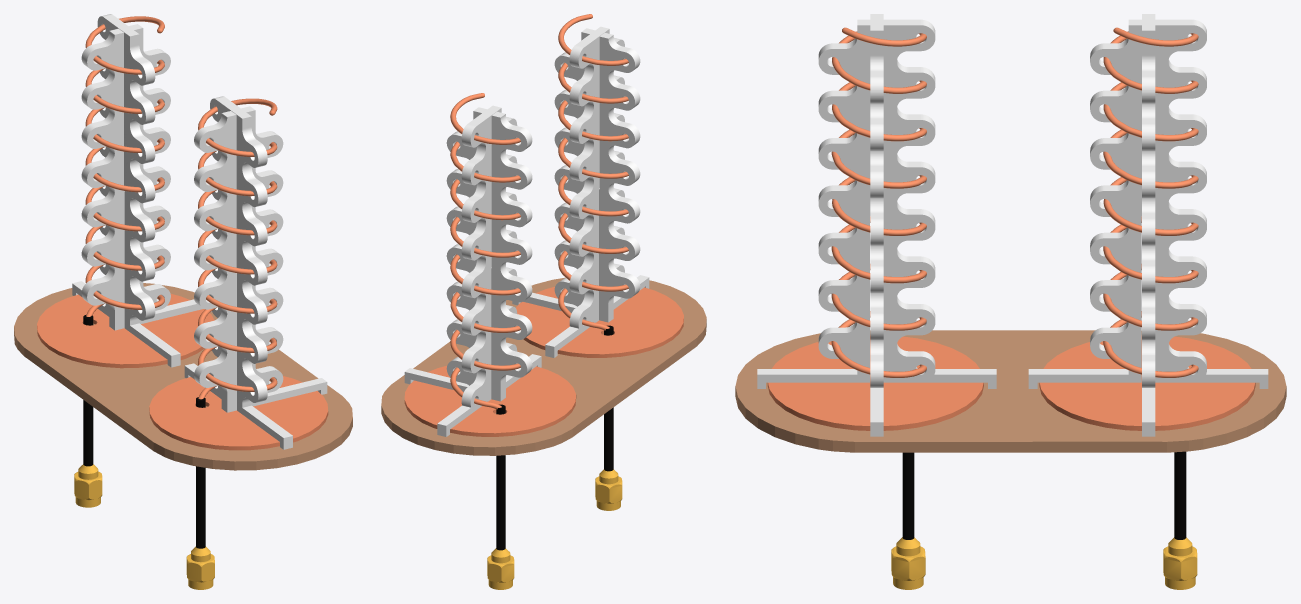
File: double_helical_antennas_for_fpv_video_system.glb
3 renders of one model, left to right at view 1: azimuth 30°, elevation 25°; view 2: azimuth 150°, elevation 25°; view 3: azimuth 270°, elevation 25°, orthographic. The views are drawn at different scales.
Visible parts, largest first — view 1: Cylinder.003, helix_bottom20240122-49-15upltb.002, helix_bottom20240122-49-15upltb.003, helix_top20240122-49-1w0en3v.003, helix_top20240122-49-1w0en3v.002, Cylinder.004, Cylinder.007, helix_all20240122-49-1bpt5tp.012, helix_all20240122-49-1bpt5tp.011, antenna433.004, antenna433.006; view 2: Cylinder.003, helix_bottom20240122-49-15upltb.003, helix_bottom20240122-49-15upltb.002, helix_top20240122-49-1w0en3v.003, helix_top20240122-49-1w0en3v.002, Cylinder.007, Cylinder.004, helix_all20240122-49-1bpt5tp.012, helix_all20240122-49-1bpt5tp.011, antenna433.006, antenna433.004; view 3: helix_top20240122-49-1w0en3v.002, helix_top20240122-49-1w0en3v.003, Cylinder.003, Cylinder.004, Cylinder.007, helix_all20240122-49-1bpt5tp.011, helix_all20240122-49-1bpt5tp.012, helix_bottom20240122-49-15upltb.002, helix_bottom20240122-49-15upltb.003, antenna433.006, antenna433.004.
Boxes of the visible parts, x1,y1,x2,y2 form: Cylinder.003: (14,283,352,470); helix_bottom20240122-49-15upltb.002: (194,106,327,412); helix_bottom20240122-49-15upltb.003: (81,24,211,330); helix_top20240122-49-1w0en3v.003: (72,14,180,367); helix_top20240122-49-1w0en3v.002: (184,96,292,449); Cylinder.004: (149,376,328,450); Cylinder.007: (37,294,214,368); helix_all20240122-49-1bpt5tp.012: (85,16,164,316); helix_all20240122-49-1bpt5tp.011: (198,98,277,399); antenna433.004: (186,397,214,589); antenna433.006: (74,315,102,507); Cylinder.003: (381,277,706,455); helix_bottom20240122-49-15upltb.003: (404,107,532,401); helix_bottom20240122-49-15upltb.002: (512,28,640,322); helix_top20240122-49-1w0en3v.003: (437,105,541,436); helix_top20240122-49-1w0en3v.002: (545,26,649,357); Cylinder.007: (404,366,576,436); Cylinder.004: (516,287,683,357); helix_all20240122-49-1bpt5tp.012: (450,93,520,409); helix_all20240122-49-1bpt5tp.011: (558,14,628,330); antenna433.006: (487,404,514,589); antenna433.004: (595,325,622,510); helix_top20240122-49-1w0en3v.002: (757,19,996,388); helix_top20240122-49-1w0en3v.003: (1028,19,1268,388); Cylinder.003: (735,330,1286,452); Cylinder.004: (767,335,983,430); Cylinder.007: (1039,335,1255,430); helix_all20240122-49-1bpt5tp.011: (831,27,926,377); helix_all20240122-49-1bpt5tp.012: (1103,27,1198,377); helix_bottom20240122-49-15upltb.002: (870,14,883,436); helix_bottom20240122-49-15upltb.003: (1142,14,1155,436); antenna433.006: (1163,451,1197,589); antenna433.004: (891,452,925,589).
Size of the model in its own units: 0.7137 by 1.74 by 1.49.
7 materials, 2 textured.
